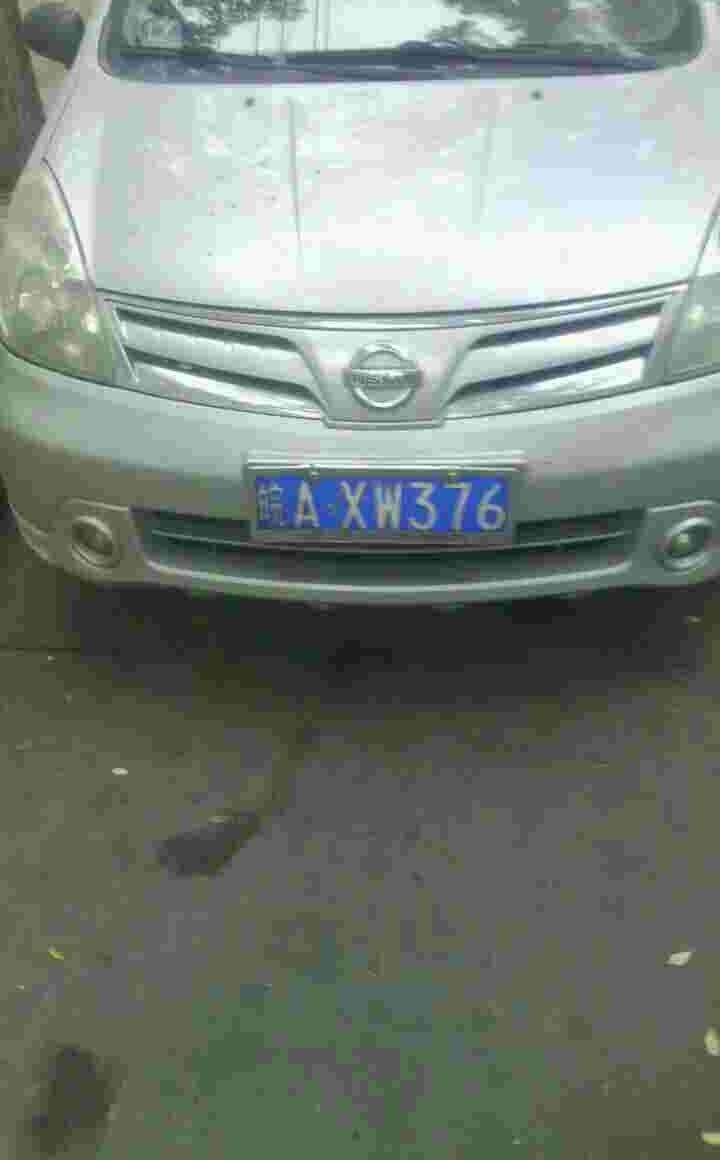license_plate: (268, 472, 505, 540)
